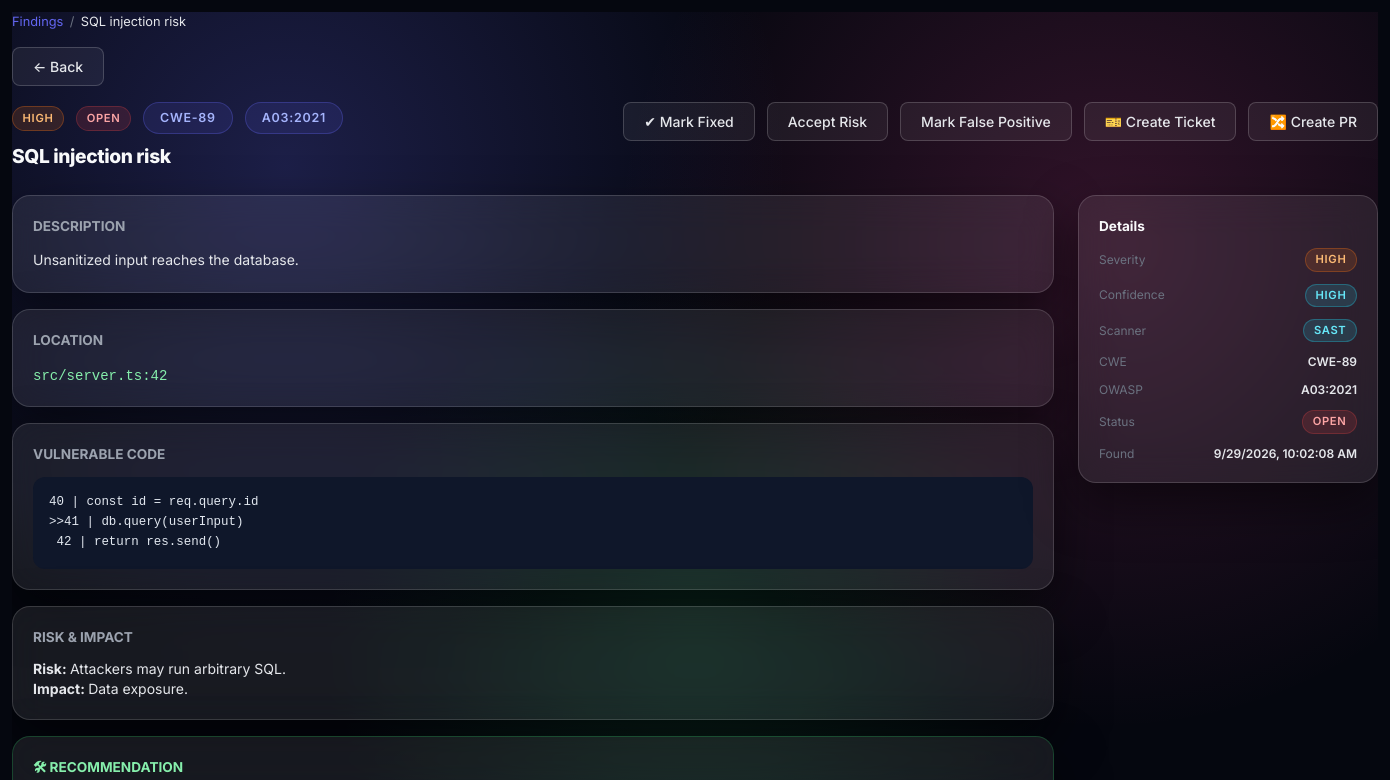
Test: FindingDetailPage › creates a ticket and switches to the view ticket link
Click the button "🎫 Create Ticket". click: [1160, 122]
box: [1084, 102, 1236, 141]
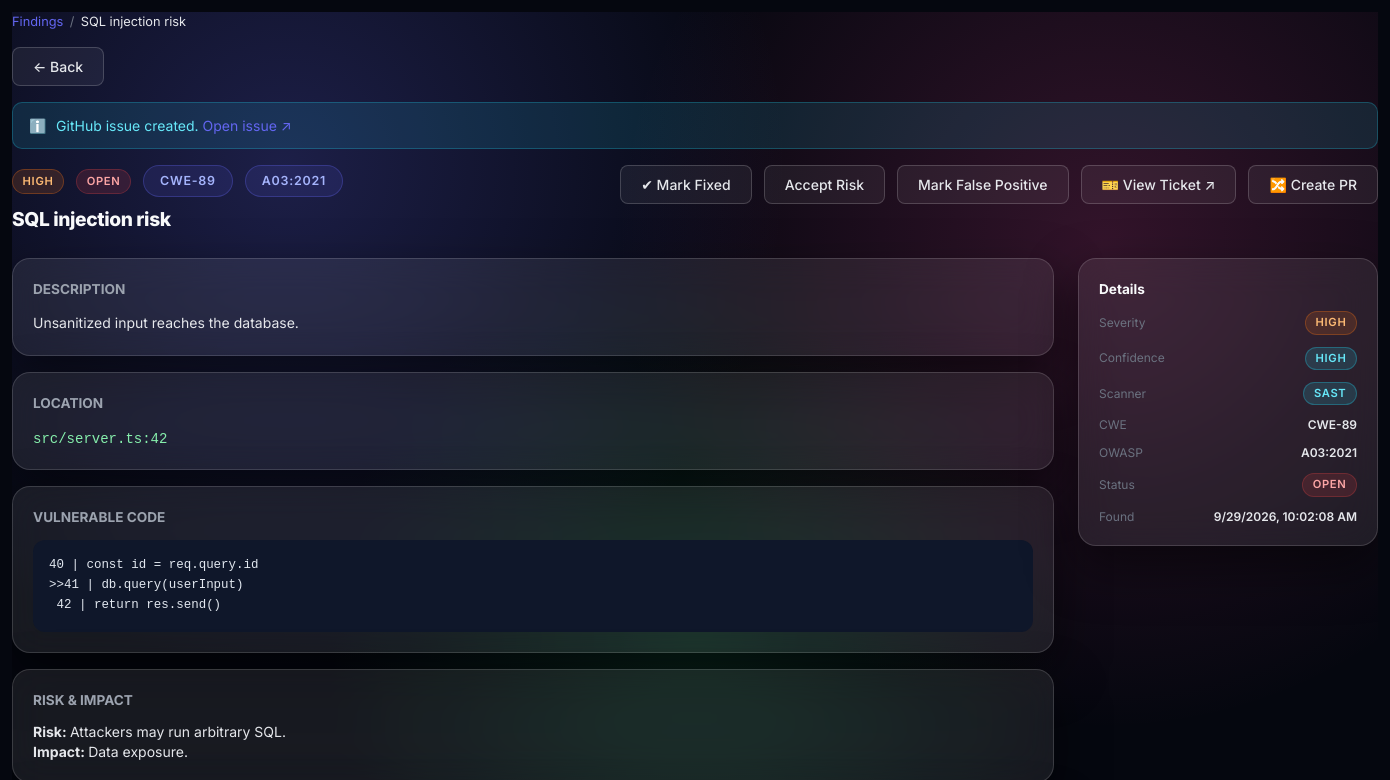
Check: the text "GitHub issue created. Open issue ↗" is shown, box [56, 115, 292, 136]
